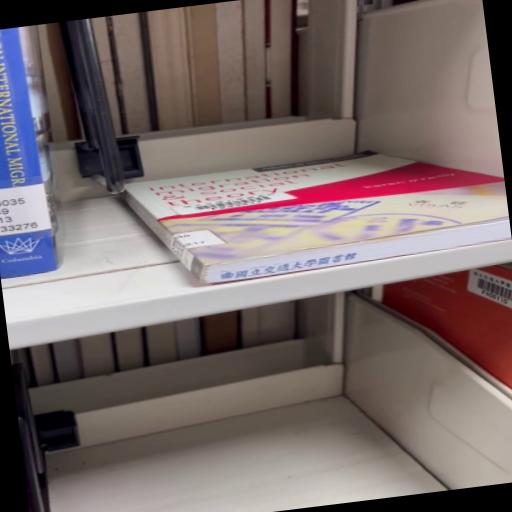flat: (126, 152, 511, 284)
